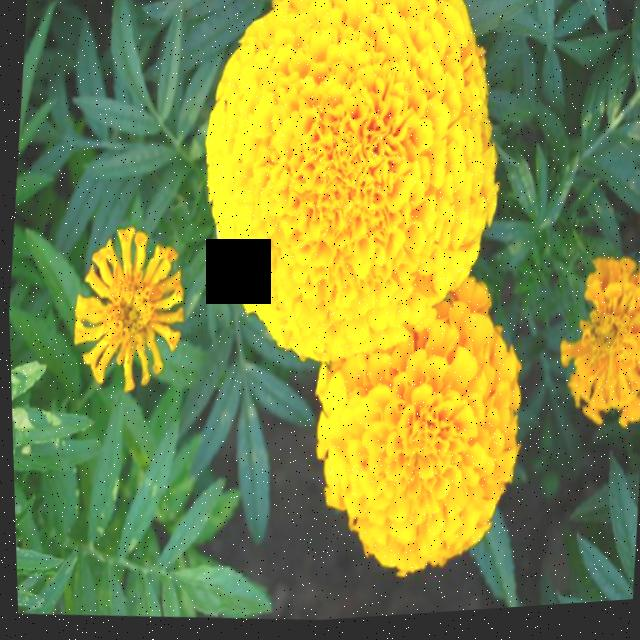marigold: (4, 0, 640, 630)
